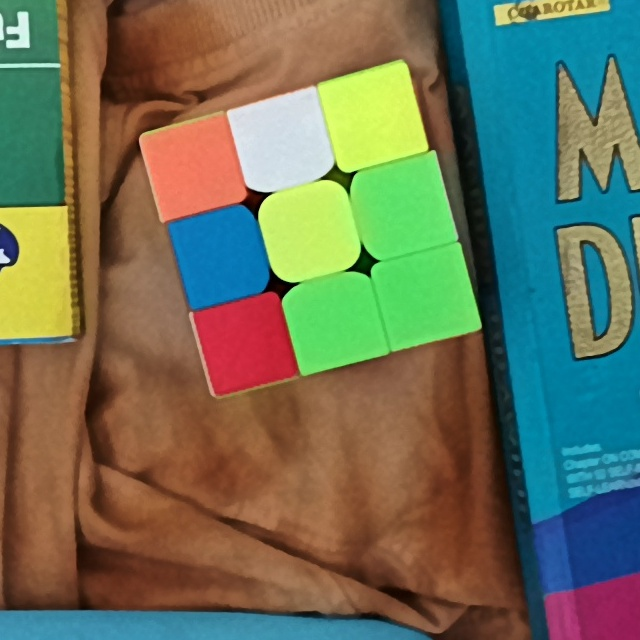tile: (272, 197, 348, 270), (154, 133, 230, 205), (370, 170, 444, 242), (336, 81, 409, 151), (186, 220, 259, 289), (244, 108, 317, 176), (300, 286, 369, 356), (393, 261, 463, 329), (213, 309, 280, 375)
